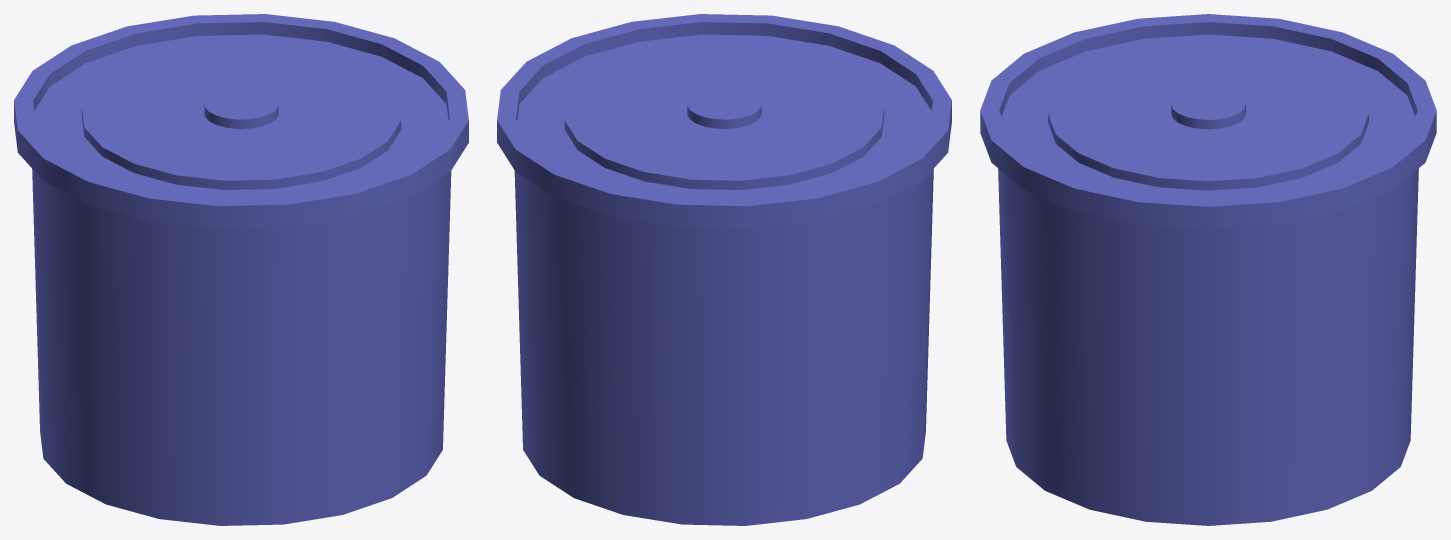
File: Bin.fbx
The picture shows the model from 3 angles, left to right: view 1: azimuth 30°, elevation 25°; view 2: azimuth 150°, elevation 25°; view 3: azimuth 270°, elevation 25°; orthographic projection.
Visible parts, largest first — view 1: Bin, bin_Lid; view 2: Bin, bin_Lid; view 3: Bin, bin_Lid.
Part boxes in pixels (box(x1,y1,x2,y2)): Bin: box(32, 168, 451, 525); bin_Lid: box(14, 14, 468, 228); Bin: box(514, 168, 933, 525); bin_Lid: box(497, 14, 951, 228); Bin: box(998, 168, 1418, 525); bin_Lid: box(980, 14, 1436, 229).
Size of the model in its own units: 323 by 263 by 323.
